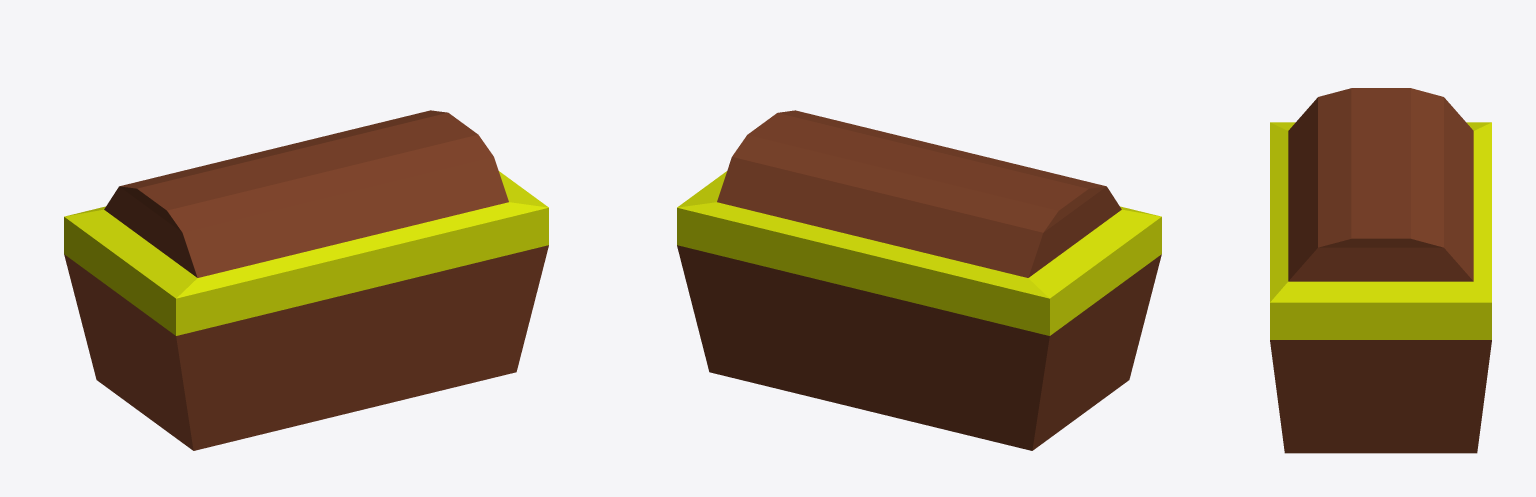
File: chest.glb
The picture shows the model from 3 angles, left to right: view 1: azimuth 30°, elevation 25°; view 2: azimuth 150°, elevation 25°; view 3: azimuth 270°, elevation 25°; orthographic projection.
Visible parts, largest first — view 1: Cube; view 2: Cube; view 3: Cube.
Part boxes in pixels (bbox=[...]): Cube: bbox=[64, 110, 548, 450]; Cube: bbox=[677, 110, 1161, 450]; Cube: bbox=[1270, 88, 1491, 453].
Bounding box in the file's own units: 3.6 × 2 × 2.
